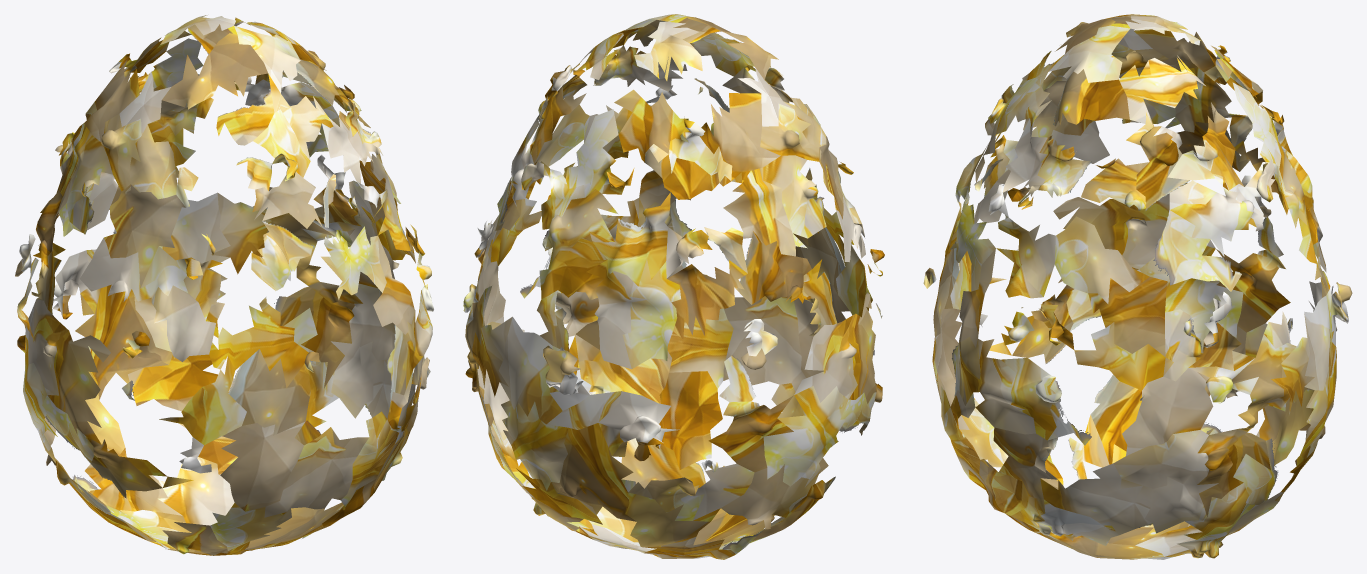
Rendered from bloom_egg_10k.fbx.
The picture shows the model from 3 angles, left to right: view 1: azimuth 30°, elevation 25°; view 2: azimuth 150°, elevation 25°; view 3: azimuth 270°, elevation 25°; orthographic projection.
Parts seen in each view (by area): view 1: bloom_egg_decimated; view 2: bloom_egg_decimated; view 3: bloom_egg_decimated.
Part boxes in pixels (x1,y1,x2,y2): bloom_egg_decimated: (15, 15, 433, 555); bloom_egg_decimated: (463, 14, 884, 559); bloom_egg_decimated: (923, 14, 1352, 559).
Bounding box in the file's own units: 1.39 × 1.91 × 1.44.
